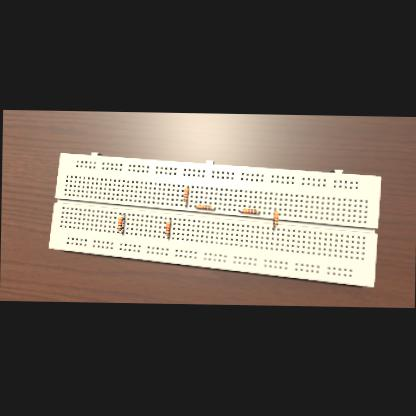breadboard: (47, 151, 380, 287)
resistor: (272, 211, 278, 225), (164, 220, 169, 235), (242, 208, 256, 213), (116, 216, 121, 229), (196, 204, 209, 209), (182, 188, 186, 201)
wire: (118, 230, 121, 233), (271, 225, 274, 228), (120, 214, 124, 216), (210, 206, 214, 208), (272, 208, 276, 210), (168, 218, 170, 221), (183, 202, 185, 205), (166, 236, 168, 238), (237, 209, 241, 210), (186, 186, 188, 188), (256, 211, 258, 212), (194, 206, 196, 206)
